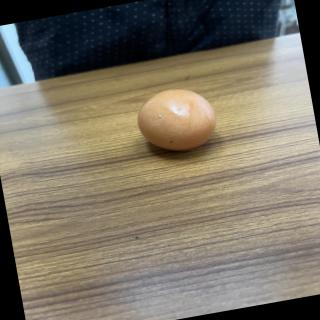Telur: (132, 82, 226, 163)
